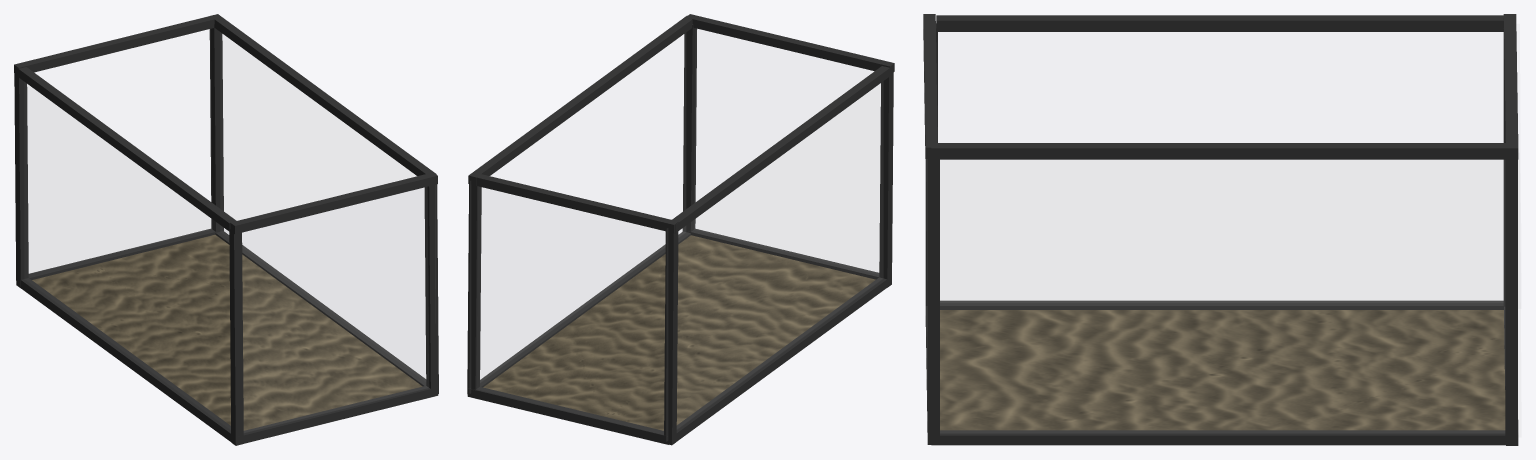
File: isikli_akvaryum.glb
3 views of the same model, side by side, from view 1: azimuth 30°, elevation 25°; view 2: azimuth 150°, elevation 25°; view 3: azimuth 270°, elevation 25° (orthographic). The views are drawn at different scales.
Visible parts, largest first — view 1: prisma-m12, prisma-m1, prisma-m0, prisma-m8, prisma-m11, prisma-m4, prisma-m7, prisma-m5, prisma-m2, prisma-m3, prisma-m6, prisma-m10 (+1 smaller); view 2: prisma-m12, prisma-m0, prisma-m1, prisma-m8, prisma-m5, prisma-m4, prisma-m6, prisma-m3, prisma-m11, prisma-m9, prisma-m7, prisma-m10 (+1 smaller); view 3: prisma-m12, prisma-m0, prisma-m1, prisma-m10, prisma-m8, prisma-m7, prisma-m6, prisma-m11, prisma-m3, prisma-m5, prisma-m4.
Part boxes in pixels (x1,y1,x2,y2): prisma-m12: (32,234,422,430); prisma-m1: (15,66,236,231); prisma-m0: (210,14,436,175); prisma-m8: (21,278,231,441); prisma-m11: (230,172,437,234); prisma-m4: (229,229,243,445); prisma-m7: (424,184,438,395); prisma-m5: (14,73,28,288); prisma-m2: (238,386,438,445); prisma-m3: (14,15,217,73); prisma-m6: (209,24,223,232); prisma-m10: (215,231,426,386); prisma-m12: (483,235,875,430); prisma-m0: (468,15,692,185); prisma-m1: (672,66,889,233); prisma-m8: (676,277,887,441); prisma-m5: (664,231,678,445); prisma-m4: (879,72,893,287); prisma-m6: (467,184,481,393); prisma-m3: (473,174,678,233); prisma-m11: (686,14,894,74); prisma-m9: (467,387,668,444); prisma-m7: (682,24,697,231); prisma-m10: (467,231,690,397); prisma-m12: (940,310,1505,430); prisma-m0: (931,143,1518,159); prisma-m1: (936,15,1503,31); prisma-m10: (931,430,1518,445); prisma-m8: (940,300,1505,309); prisma-m7: (927,154,939,443); prisma-m6: (1505,159,1517,443); prisma-m11: (923,14,937,158); prisma-m3: (1503,14,1518,144); prisma-m5: (1503,28,1505,305); prisma-m4: (925,23,937,305).
Size of the model in its own units: 0.5097 by 0.5251 by 0.9537.
17 materials, 1 textured.
